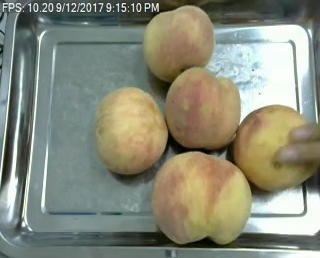Peach: (152, 151, 252, 247), (233, 103, 317, 191), (94, 86, 167, 176), (164, 68, 241, 150), (143, 4, 216, 81)
